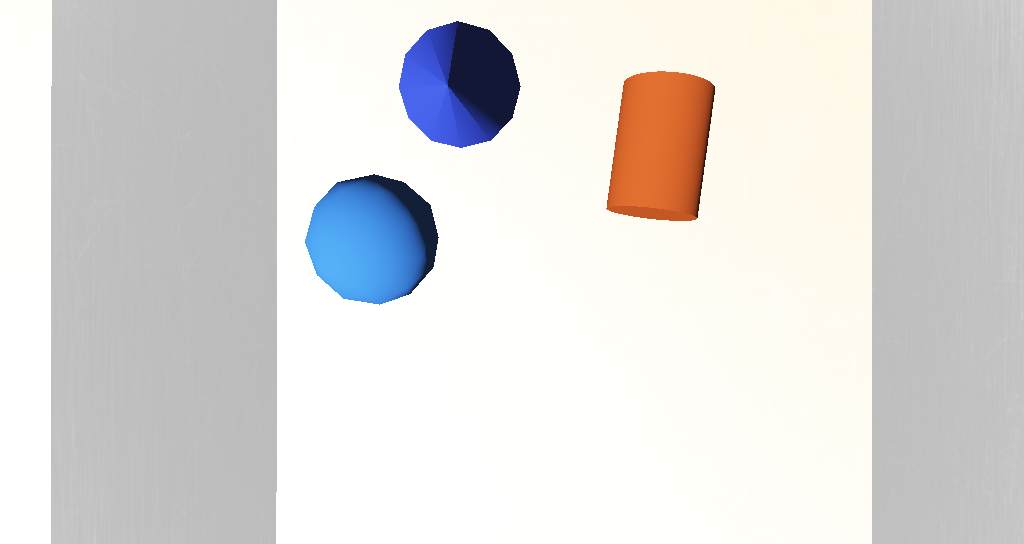cone: (519, 200, 573, 248)
cylinder: (411, 174, 478, 236)
sphere: (371, 236, 438, 279)
